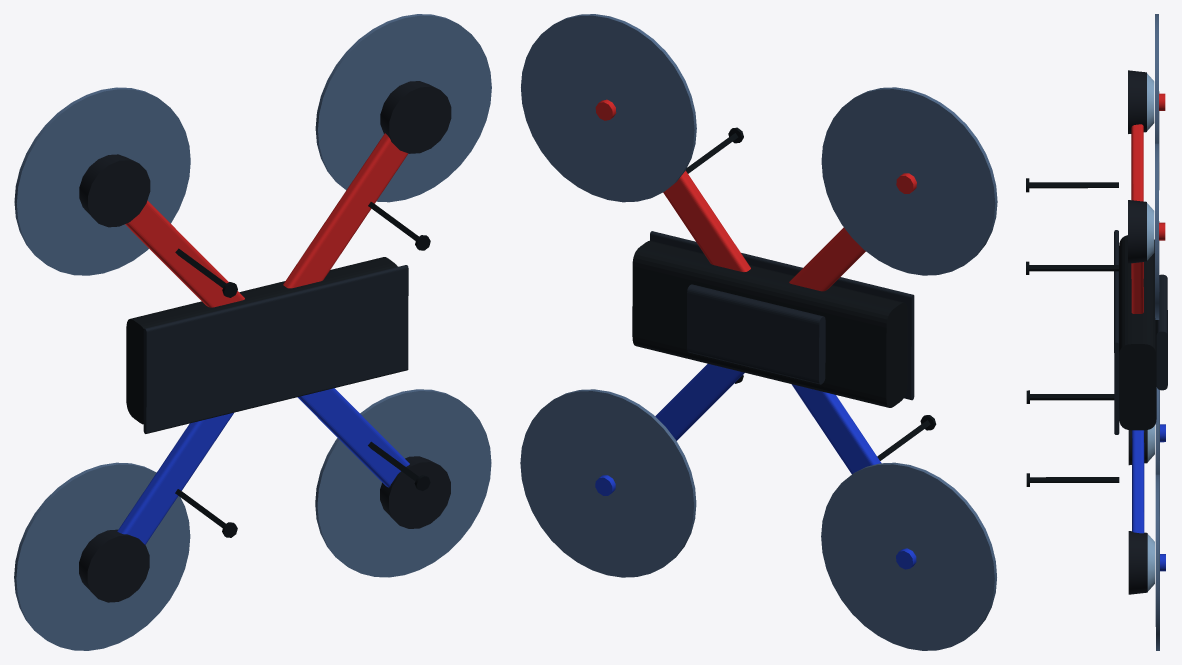
File: quadcopter_x4.obj
3 views of the same model, side by side, from view 1: azimuth 30°, elevation 25°; view 2: azimuth 150°, elevation 25°; view 3: azimuth 270°, elevation 25° (orthographic). The views are drawn at different scales.
Parts seen in each view (by area): view 1: prop_grey_5, body_mid_1, motor_dark_3, red_metal_2, blue_metal_6, body_dark_0, leg_dark_7; view 2: prop_grey_5, body_dark_0, body_mid_1, blue_metal_6, red_metal_2, leg_dark_7; view 3: body_dark_0, motor_dark_3, prop_grey_5, leg_dark_7, body_mid_1, red_metal_2, blue_metal_6, motor_silver_4.
Boxes of the visible parts, x1,y1,x2,y2 form: prop_grey_5: (14,14,491,650); body_mid_1: (143,265,408,433); motor_dark_3: (79,81,451,602); red_metal_2: (125,133,408,307); blue_metal_6: (117,388,409,544); body_dark_0: (126,257,397,424); leg_dark_7: (175,202,430,537); prop_grey_5: (520,14,997,650); body_dark_0: (632,240,907,407); body_mid_1: (650,231,914,400); blue_metal_6: (595,364,916,569); red_metal_2: (595,99,916,291); leg_dark_7: (685,127,936,460); body_dark_0: (1119,235,1156,430); motor_dark_3: (1128,70,1147,594); prop_grey_5: (1155,14,1159,650); leg_dark_7: (1026,178,1119,486); body_mid_1: (1114,230,1167,434); red_metal_2: (1131,93,1165,313); blue_metal_6: (1132,424,1165,571); motor_silver_4: (1147,73,1154,591).
Bounding box in the file's own units: 0.71 × 0.7962 × 0.2081.
